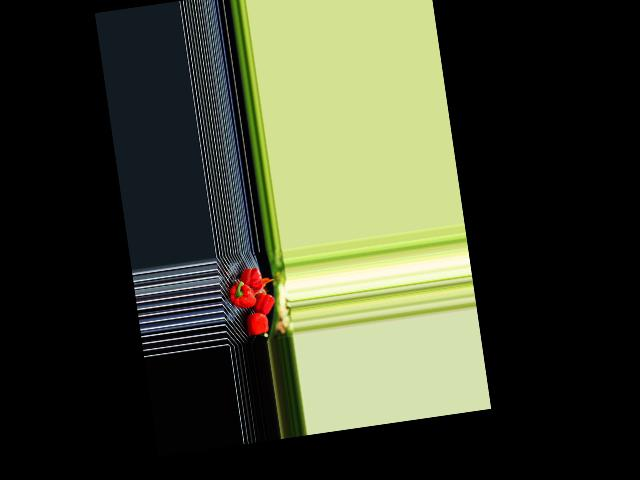bell_pepper: (240, 266, 265, 294)
